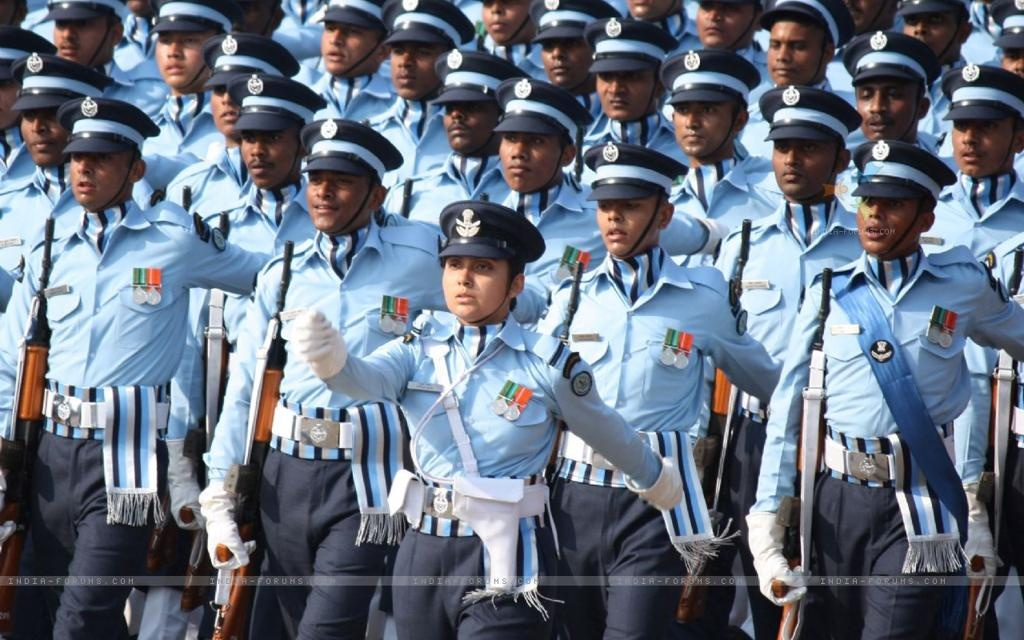human_face: (442, 253, 510, 317), (672, 88, 736, 156), (950, 105, 1010, 177), (307, 166, 371, 230), (770, 135, 836, 197), (856, 192, 922, 254), (596, 193, 658, 255), (68, 147, 132, 207), (154, 28, 216, 88), (855, 81, 917, 141), (240, 120, 294, 188), (498, 130, 558, 190), (766, 22, 824, 84), (209, 77, 267, 137), (595, 63, 655, 119), (388, 41, 442, 99), (320, 20, 376, 74), (18, 108, 70, 166), (443, 100, 501, 152), (902, 12, 958, 62), (53, 16, 105, 68), (542, 36, 594, 86), (696, 1, 752, 46), (224, 1, 276, 41), (482, 1, 530, 41), (838, 0, 884, 27), (1000, 46, 1024, 96), (4, 72, 24, 130)
